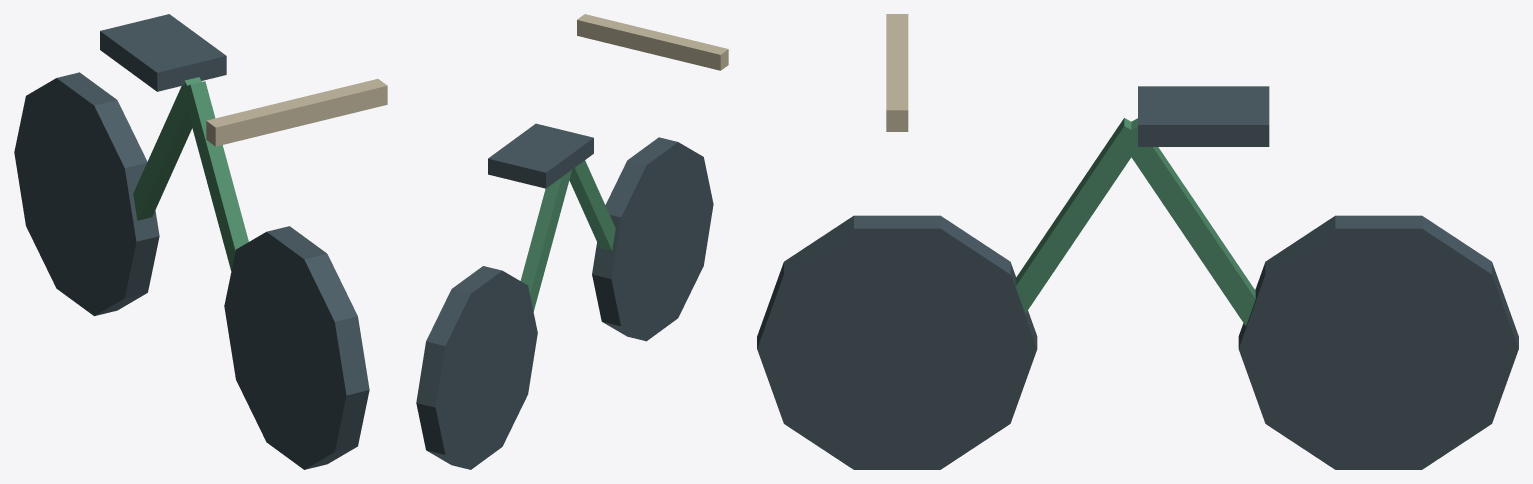
The model's file is bicycle.glb.
3 views of the same model, side by side, from view 1: azimuth 30°, elevation 25°; view 2: azimuth 150°, elevation 25°; view 3: azimuth 270°, elevation 25° (orthographic). The views are drawn at different scales.
Parts seen in each view (by area): view 1: bicycle; view 2: bicycle; view 3: bicycle.
Part boxes in pixels (<box>): bicycle: <box>14,14,387,469</box>; bicycle: <box>416,14,728,469</box>; bicycle: <box>757,14,1518,469</box>.
Bounding box in the file's own units: 0.52 × 1.01 × 1.74.
